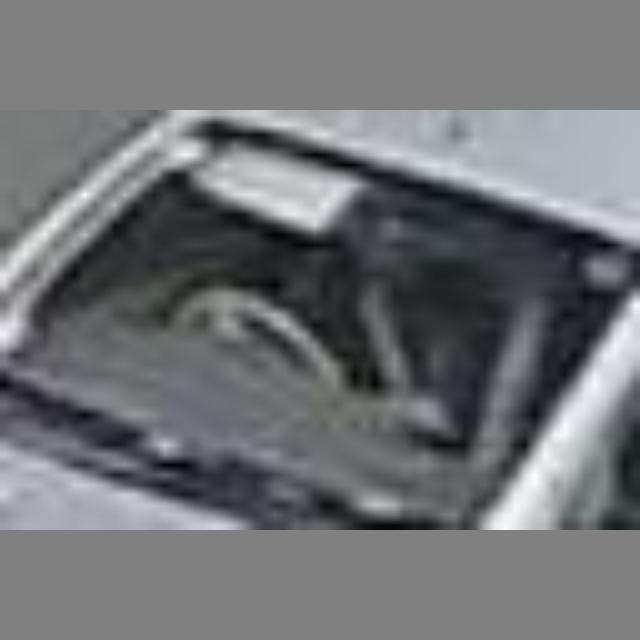pakai: (270, 210, 460, 420)
